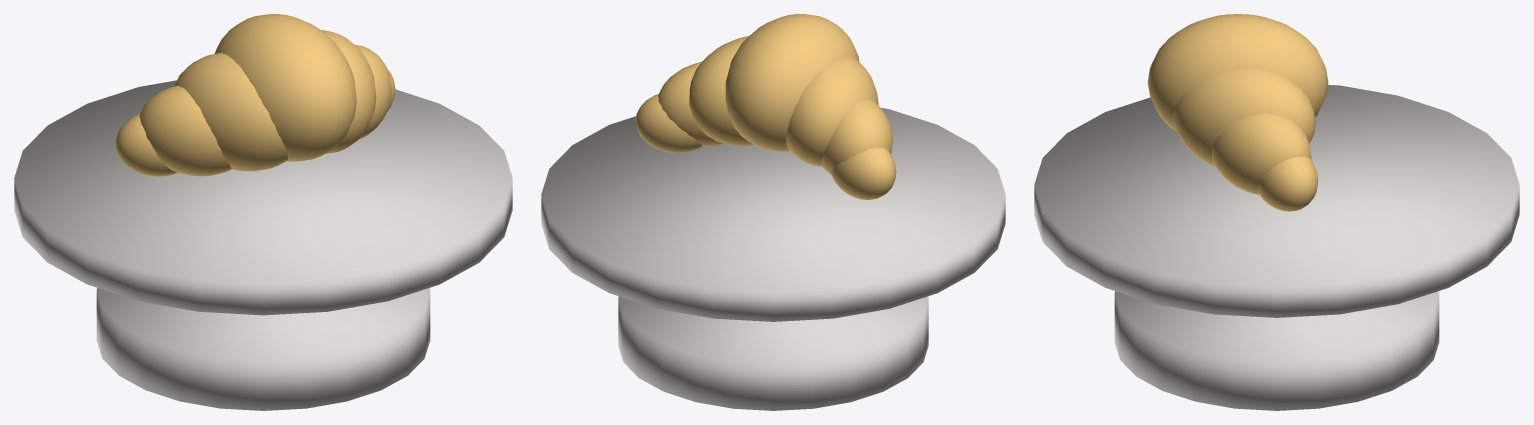
The model's file is keepsake_croissant.glb.
3 renders of one model, left to right at view 1: azimuth 30°, elevation 25°; view 2: azimuth 150°, elevation 25°; view 3: azimuth 270°, elevation 25°, orthographic. The views are drawn at different scales.
Visible parts, largest first — view 1: Keepsake_Croissant; view 2: Keepsake_Croissant; view 3: Keepsake_Croissant.
Boxes of the visible parts, box(x1,y1,x2,y2) form: Keepsake_Croissant: box(14, 14, 512, 410); Keepsake_Croissant: box(541, 14, 1005, 410); Keepsake_Croissant: box(1034, 14, 1519, 410).
Size of the model in its own units: 1.42 by 1.04 by 1.42.
